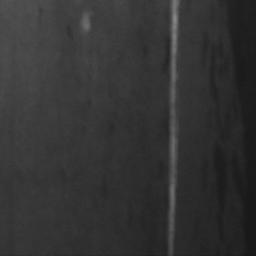Bright scratch: (169, 0, 179, 256), (79, 10, 92, 32)
